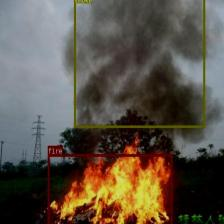fire: (47, 153, 172, 224)
smoke: (74, 0, 205, 127)
